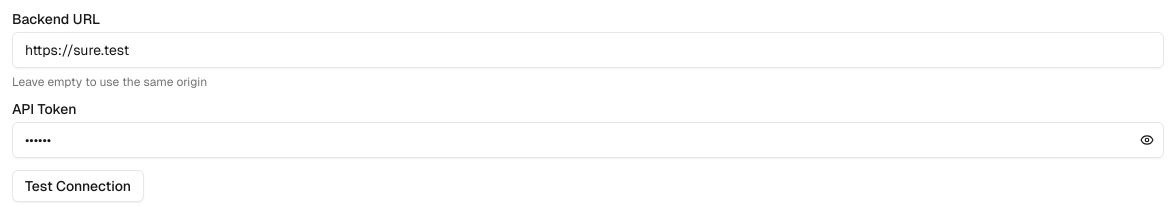
Test: ConnectionSettings › shows success after successful connection test
Click the button "Test Connection" at (78, 186), box left=12, top=170, right=144, bottom=202
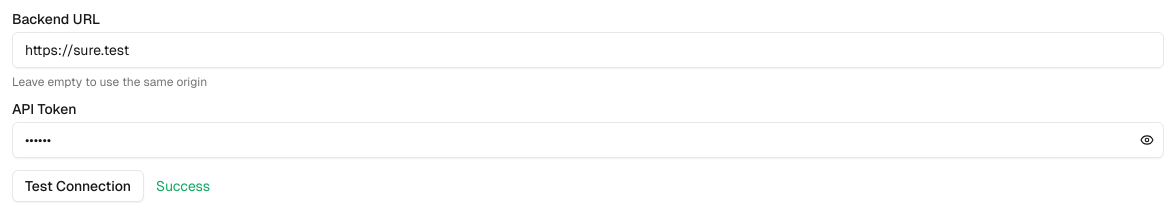
Expected: the text "Success" is shown, left=156, top=176, right=210, bottom=196
